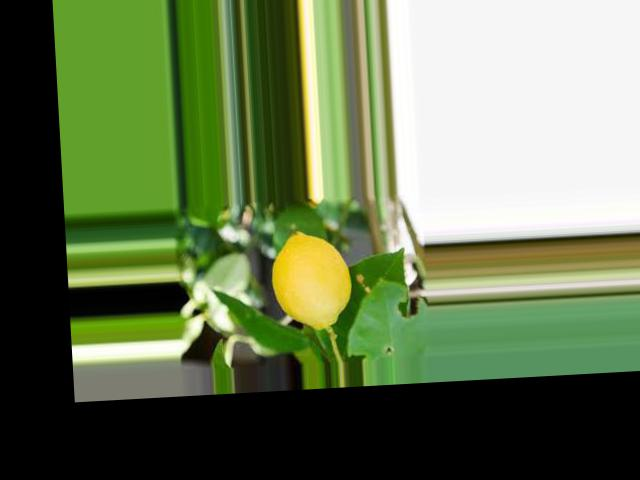lemon: (261, 219, 361, 336)
